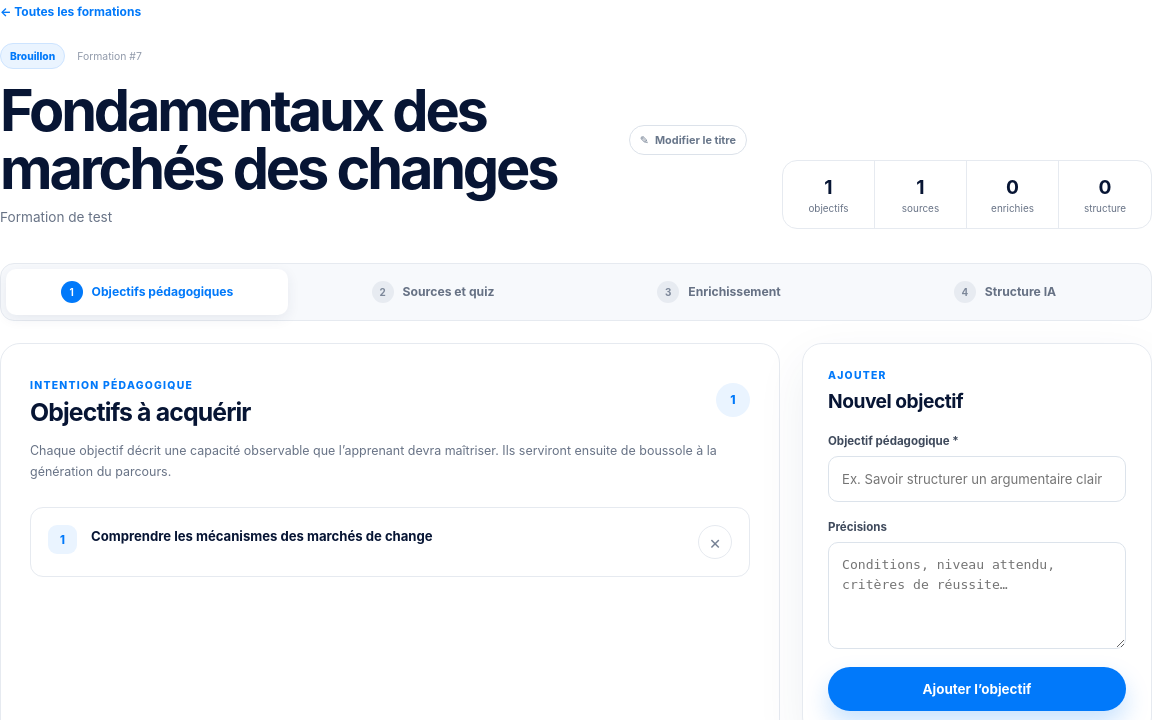
Scenario: AdminTrainingDetailView › affiche un bouton de génération inactif sans lancer d'appel API
Click the button with test id "training-tab-generation" at coordinates (1005, 292), box top-left (864, 269), bottom-right (1146, 315)
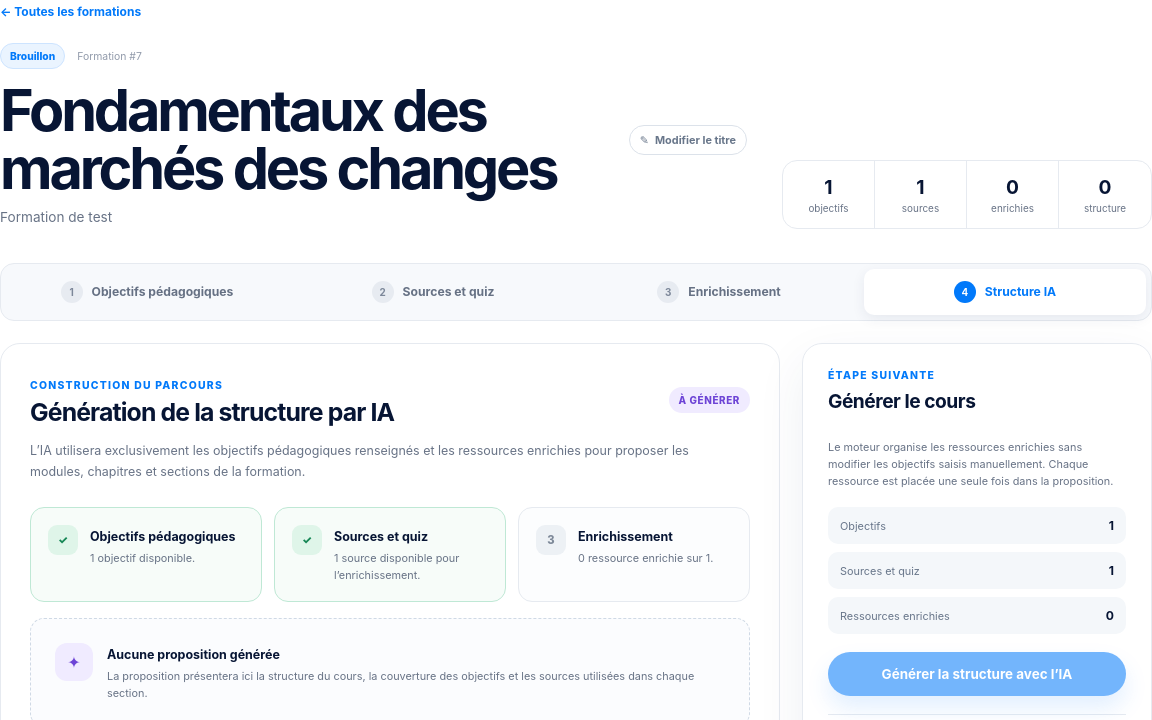
Expected: the button with test id "generate-course-button" is disabled, top-left (828, 652), bottom-right (1126, 696)
